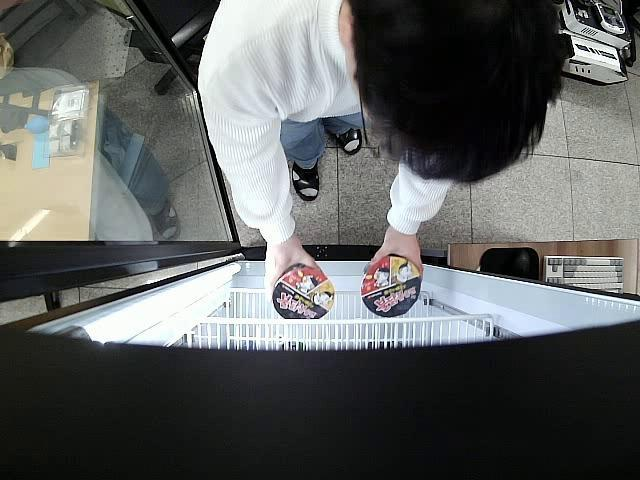07_buldak_L: (274, 262, 337, 320), (362, 256, 421, 317)
